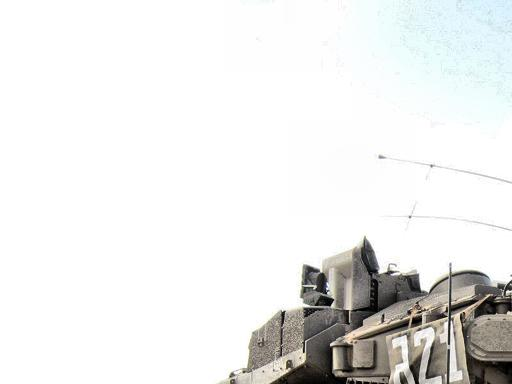tanks: (221, 241, 512, 384)
